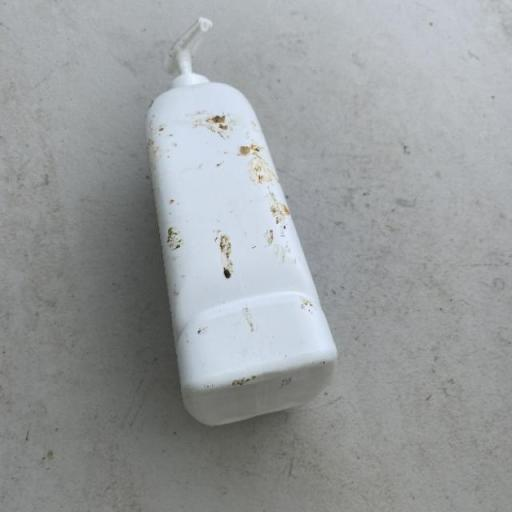plastic: (144, 16, 338, 426)
